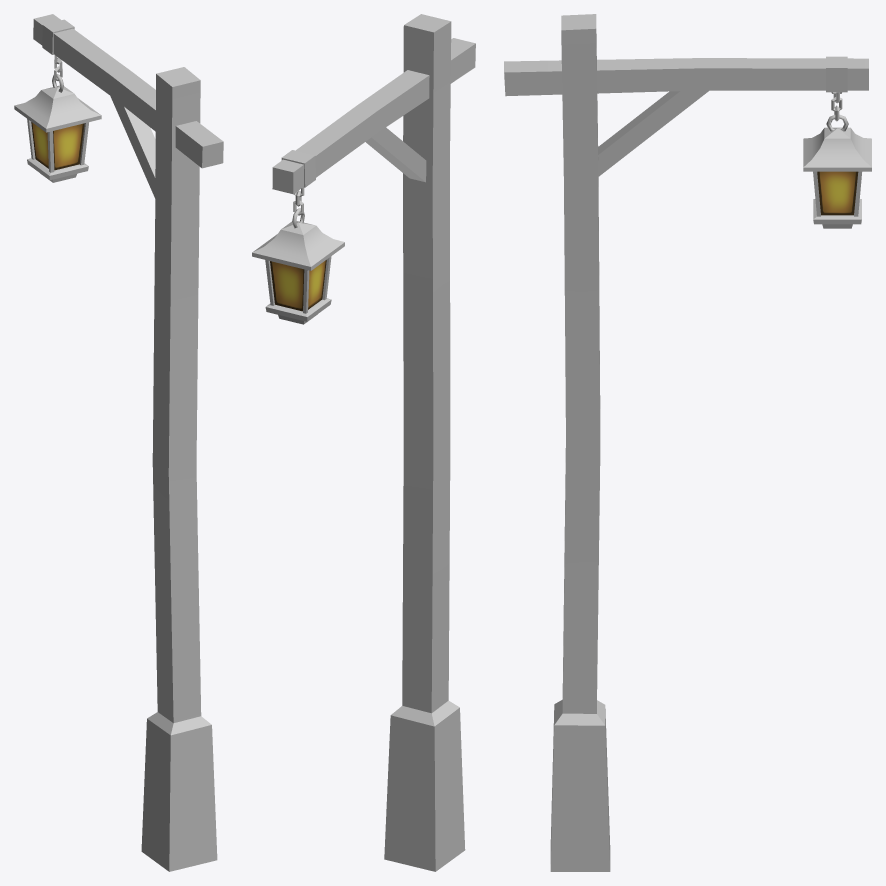
Rendered from SM_Lantern_01_A.fbx.
3 renders of one model, left to right at view 1: azimuth 30°, elevation 25°; view 2: azimuth 150°, elevation 25°; view 3: azimuth 270°, elevation 25°, orthographic. The views are drawn at different scales.
Parts seen in each view (by area): view 1: SM_Lantern_01_A_Mesh; view 2: SM_Lantern_01_A_Mesh; view 3: SM_Lantern_01_A_Mesh.
Part boxes in pixels (<box>): SM_Lantern_01_A_Mesh: <box>14,14,223,871</box>; SM_Lantern_01_A_Mesh: <box>252,14,475,871</box>; SM_Lantern_01_A_Mesh: <box>504,14,871,871</box>.
Size of what is drawn, in the model's own units: 32.62 by 439 by 175.
